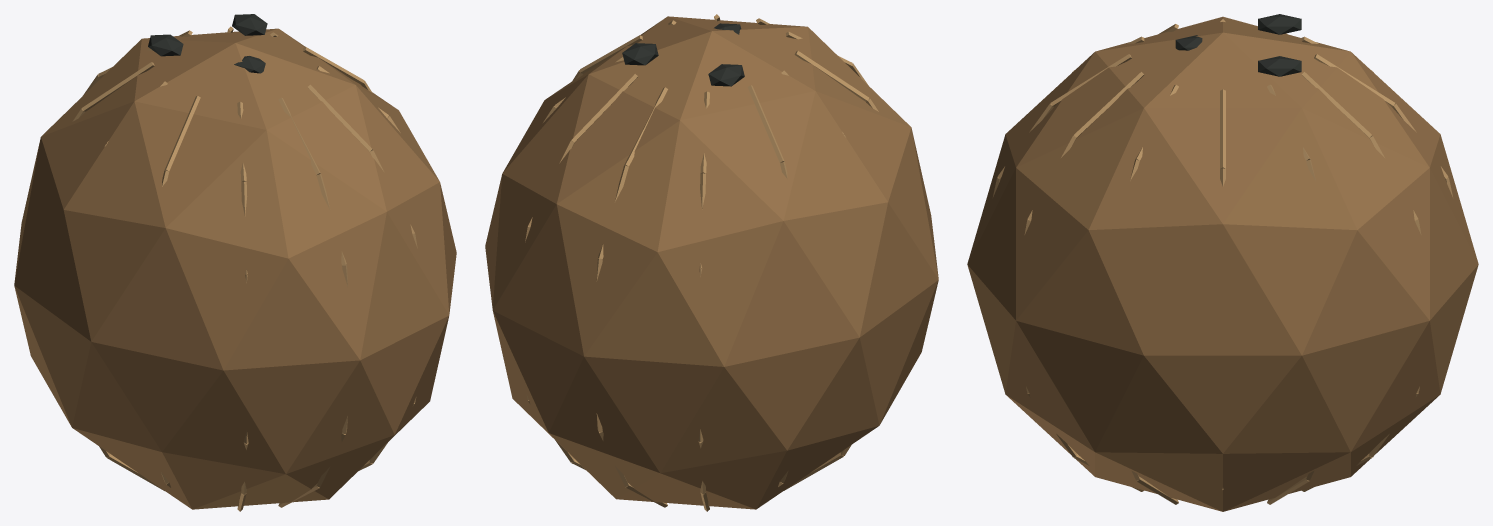
File: Coconut.fbx
3 views of the same model, side by side, from view 1: azimuth 30°, elevation 25°; view 2: azimuth 150°, elevation 25°; view 3: azimuth 270°, elevation 25° (orthographic). The views are drawn at different scales.
Parts seen in each view (by area): view 1: Body, Eye, Eye.001; view 2: Body, Eye, Eye.001; view 3: Body, Eye.001, Eye.
Part boxes in pixels (bbox=[...]): Body: bbox=[14, 28, 456, 509]; Eye: bbox=[232, 14, 267, 35]; Eye.001: bbox=[148, 34, 183, 56]; Body: bbox=[485, 16, 938, 509]; Eye: bbox=[622, 43, 658, 65]; Eye.001: bbox=[708, 64, 744, 86]; Body: bbox=[967, 16, 1478, 511]; Eye.001: bbox=[1258, 14, 1301, 34]; Eye: bbox=[1258, 56, 1301, 76].
Bounding box in the file's own units: 0.3043 × 0.36 × 0.36.
